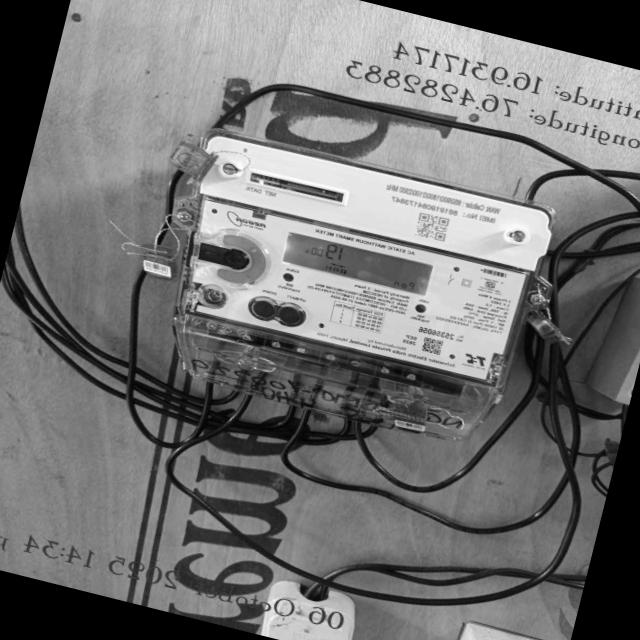meter: (168, 123, 554, 394)
